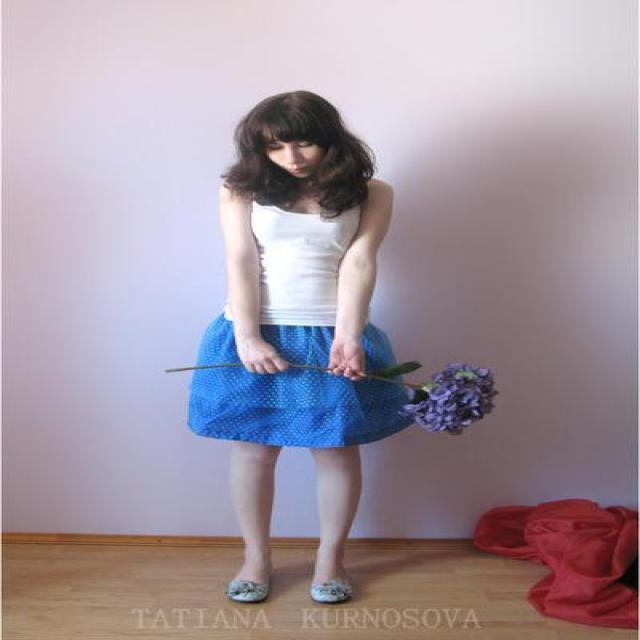shirt: (251, 203, 371, 325)
shoe: (227, 571, 363, 608)
skirt: (166, 319, 421, 447)
